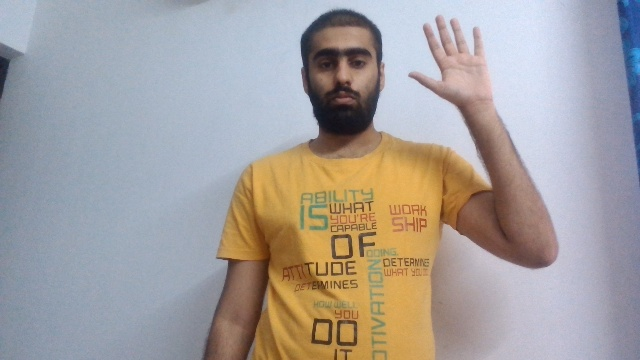paper: (406, 13, 497, 107)
